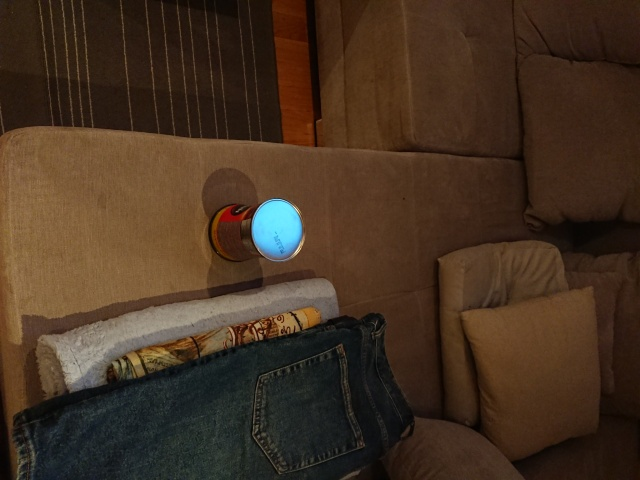Nescafe Classic 225g: (205, 196, 309, 266)
